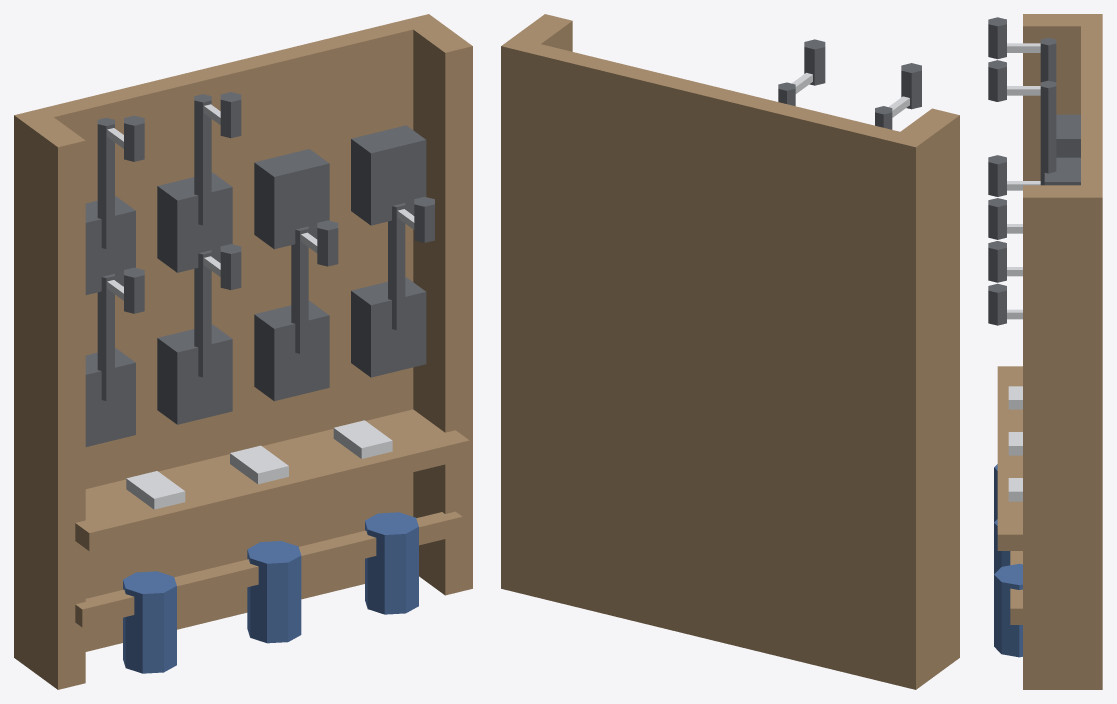
File: marina-and-yacht-club-marina-and-yacht-club-winch-hand-50faa35d__38333.glb
3 views of the same model, side by side, from view 1: azimuth 30°, elevation 25°; view 2: azimuth 150°, elevation 25°; view 3: azimuth 270°, elevation 25° (orthographic). The views are drawn at different scales.
Parts seen in each view (by area): view 1: marina-and-yacht-club-winch-handle-rack; view 2: marina-and-yacht-club-winch-handle-rack; view 3: marina-and-yacht-club-winch-handle-rack.
Boxes of the visible parts, <box> form: marina-and-yacht-club-winch-handle-rack: <box>14,14,472,689</box>; marina-and-yacht-club-winch-handle-rack: <box>501,14,959,689</box>; marina-and-yacht-club-winch-handle-rack: <box>988,14,1102,689</box>.
Size of the model in its own units: 1.2 by 1.56 by 0.316.
